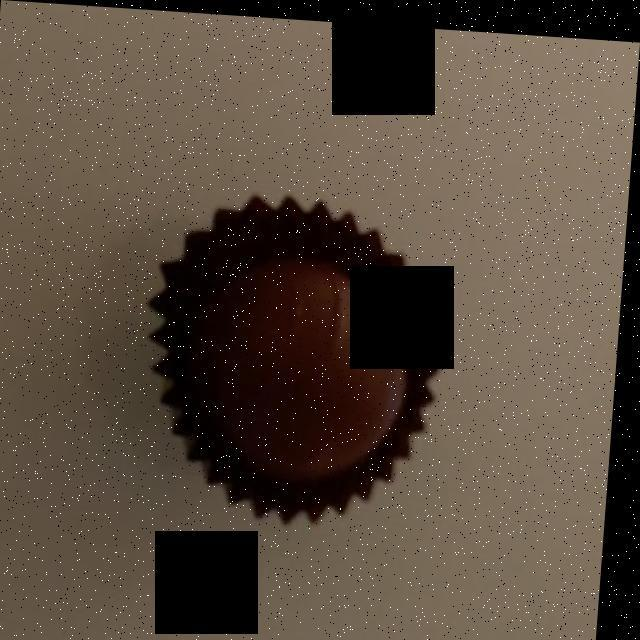nuts: (161, 199, 437, 506)
